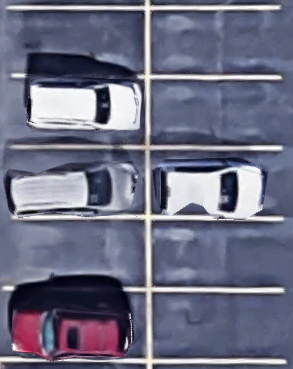Occupied: (2, 288, 150, 360), (8, 75, 148, 147), (8, 146, 148, 217), (148, 147, 283, 217)
Vacant: (2, 217, 149, 289), (150, 289, 286, 363), (6, 8, 147, 78), (150, 218, 285, 291), (148, 76, 283, 147), (147, 8, 282, 78)
